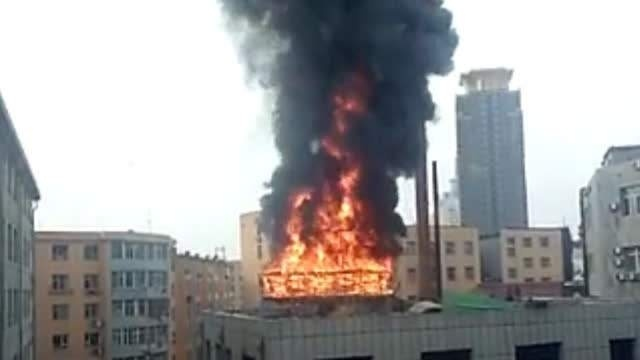fire: (259, 169, 400, 298)
